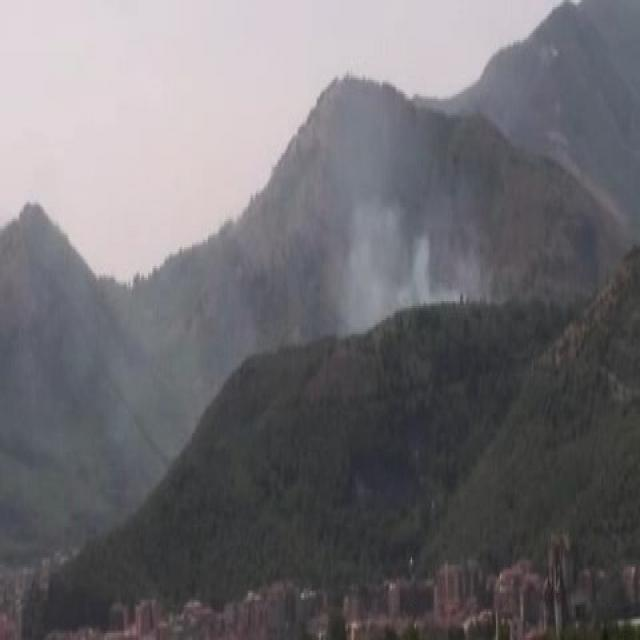smoke: (280, 121, 464, 322)
